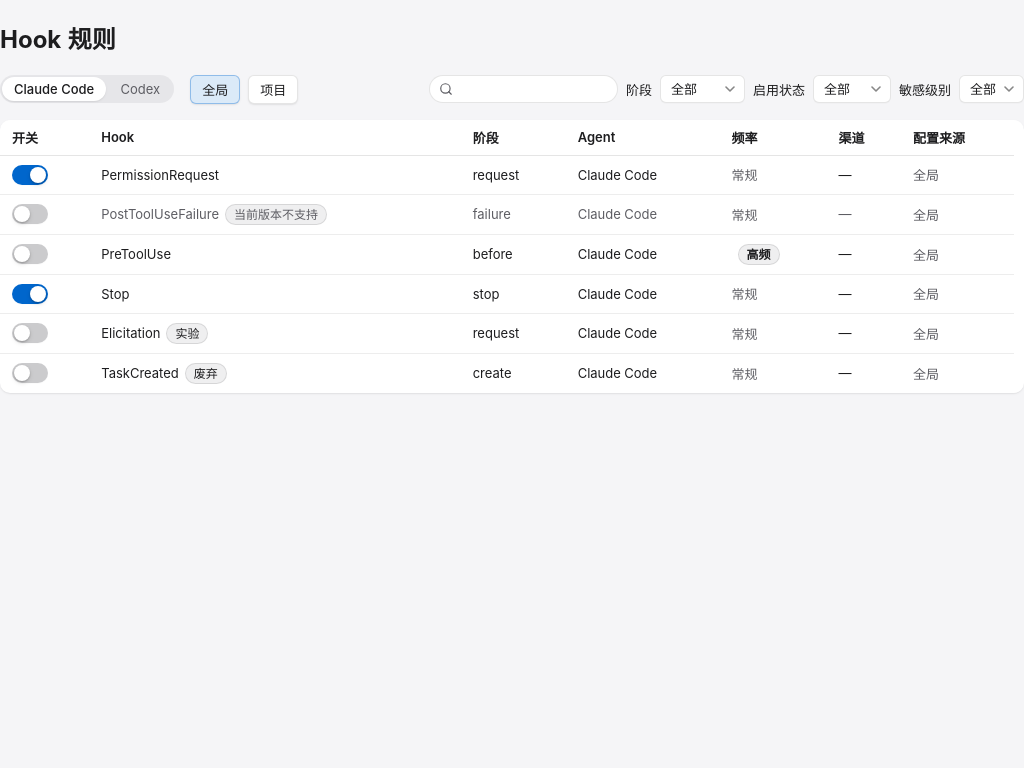
codex drift apply warns that changes return to /hooks review
The width and height of the screenshot is (1024, 768).
Click the tab "Codex". click: (140, 89)
box: [108,77,172,101]
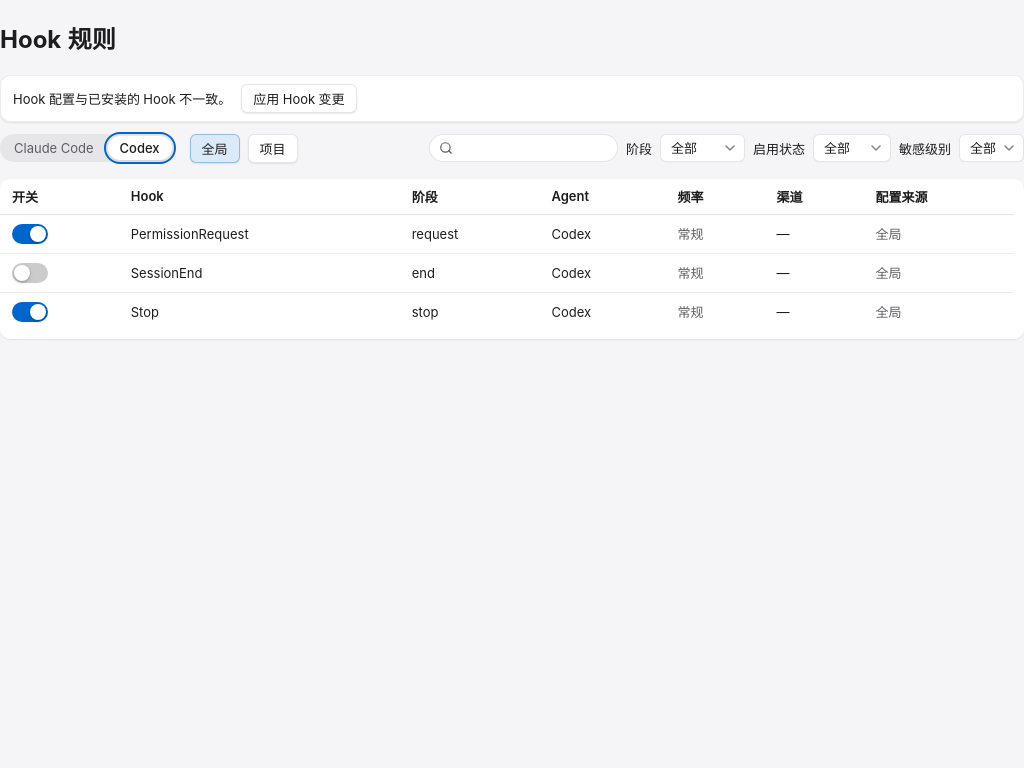
Click the button "应用 Hook 变更". click: (299, 98)
box: [241,84,357,113]
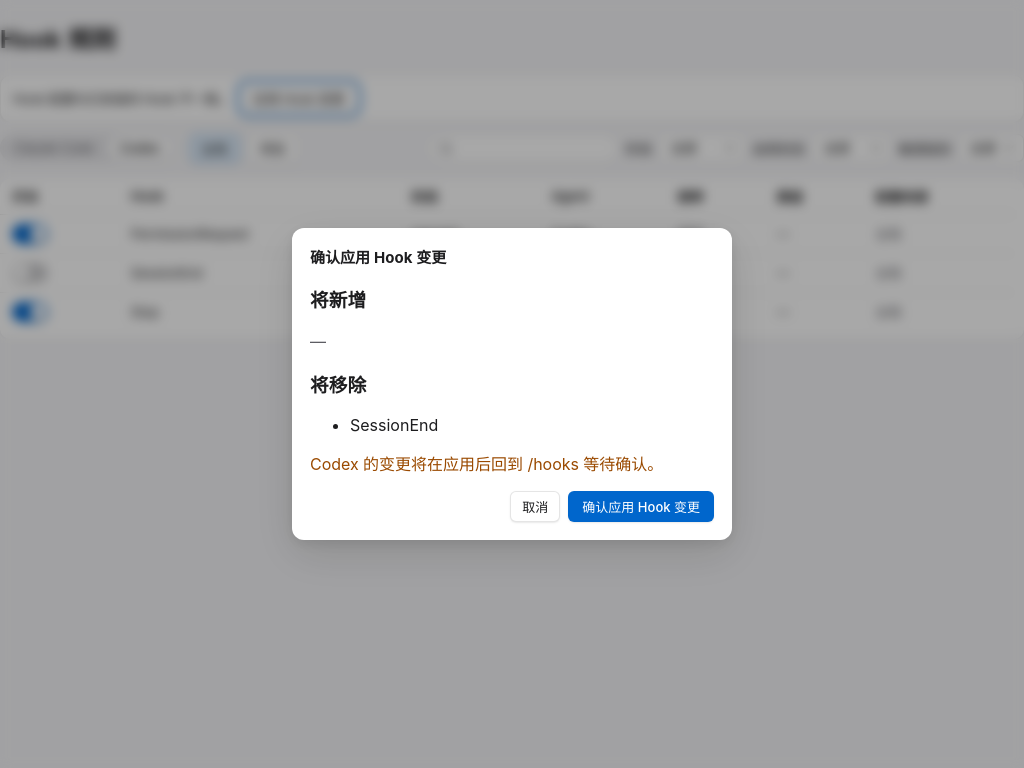
Now the text "Codex 的变更将在应用后回到 /hooks 等待确认。" is shown, box [310,451,714,475]
